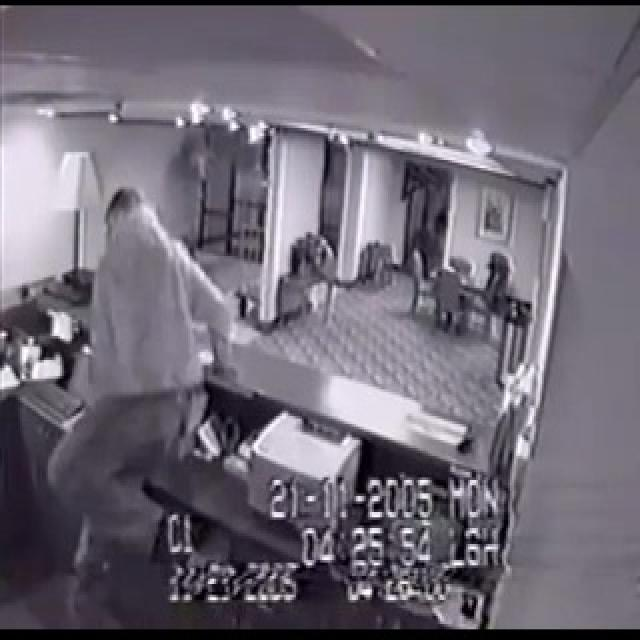thief: (37, 169, 261, 611)
